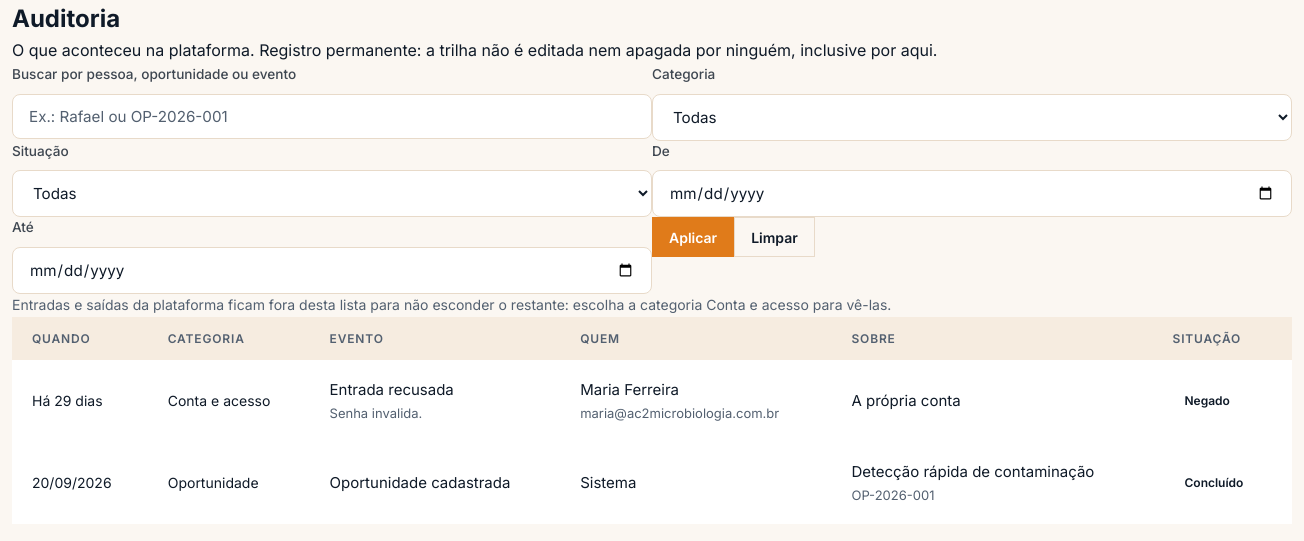
Test: Console — Auditoria › avisa que entradas e saídas ficam no filtro Conta e acesso
Expected: the text "Entradas e saídas da plataforma" is shown, [12,296,702,313]
Select "Conta e acesso" in the dropdown labelled "Categoria": (972,117) [652,94,1292,141]
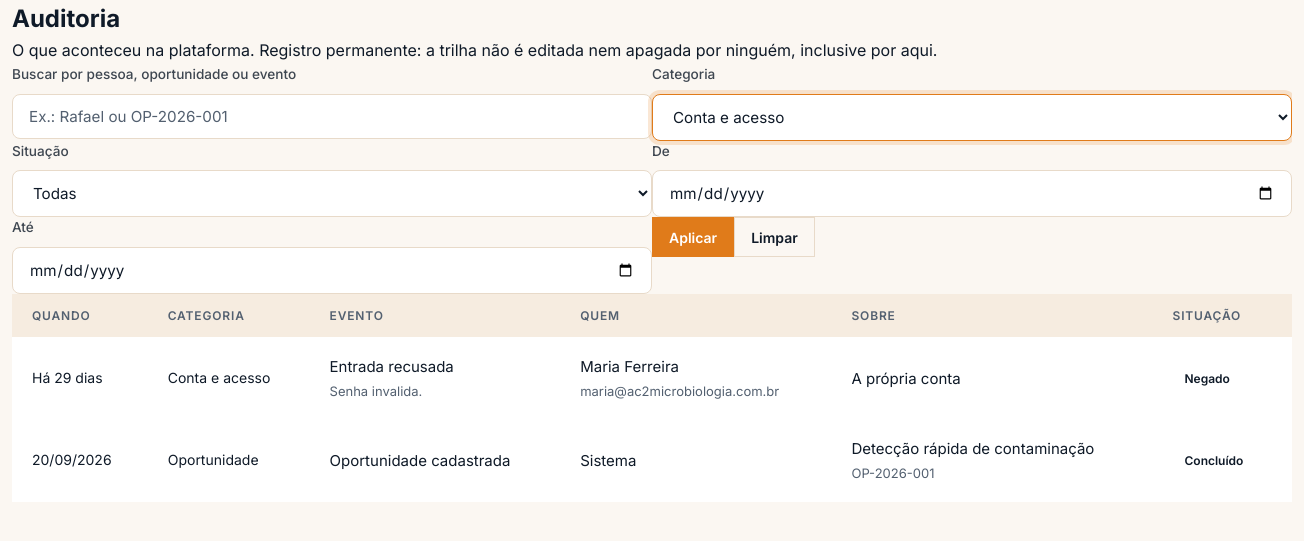
Now the text "Entradas e saídas da plataforma" is gone
